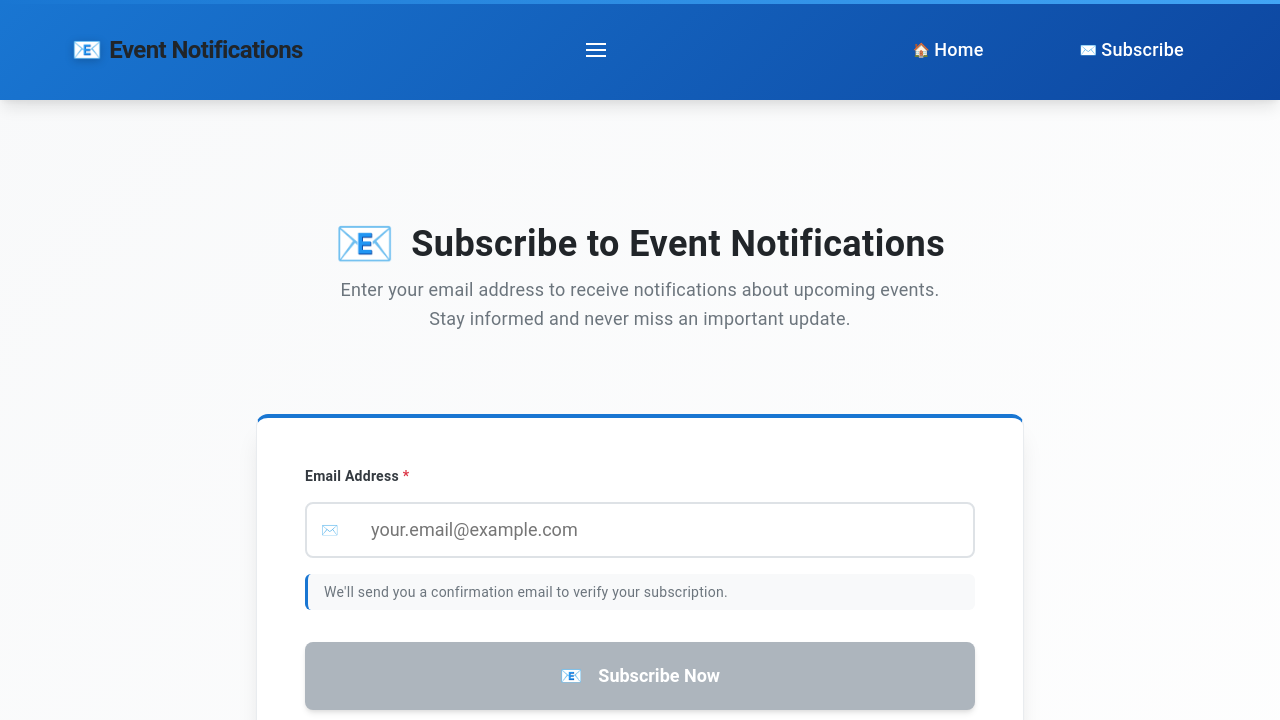
Test case: Cross-Browser Compatibility Tests › JavaScript API Compatibility › should handle DOM manipulation correctly
The width and height of the screenshot is (1280, 720).
expect the form with test id "subscription-form" is shown: met, box [305,466,975,710]
# Test dynamic content updates
Step 1. Type "invalid-email" into the field with id "email" → (640, 530), box [305,502,975,558]
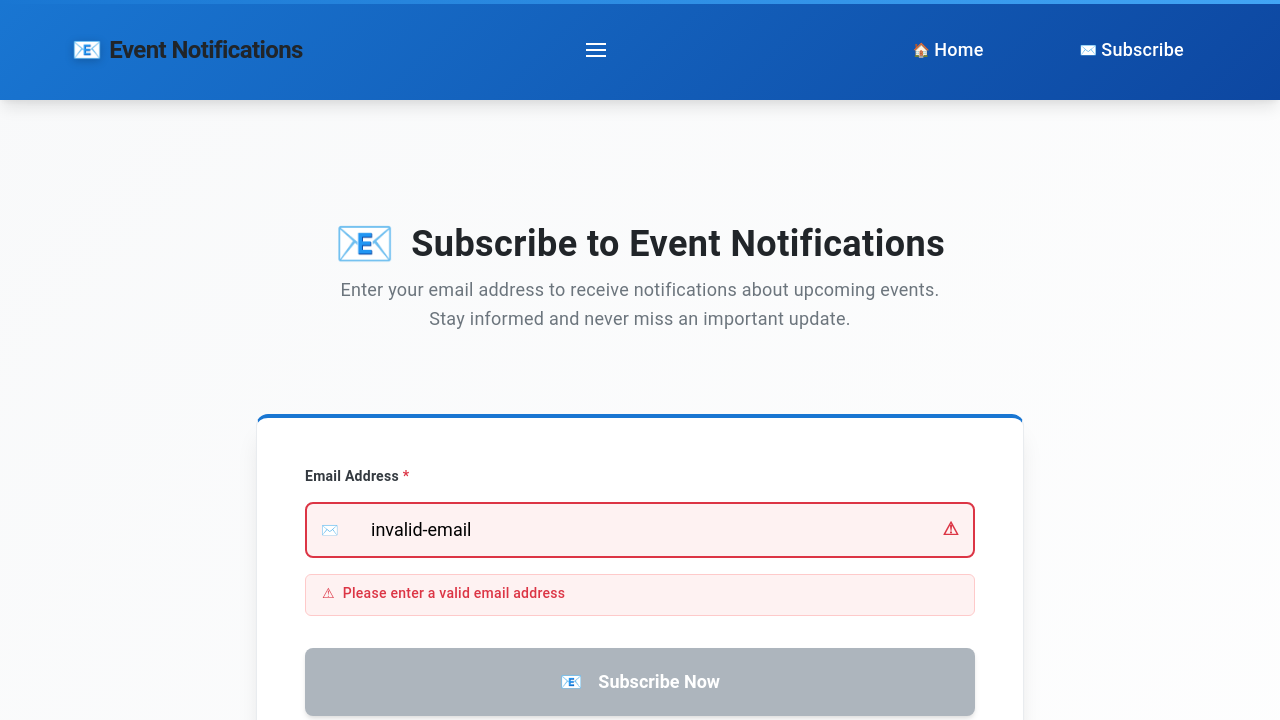
expect the message "⚠ Please enter a valid email address" is shown: met, box [305,574,975,616]
expect the text with class "error-text" shows "valid email": met, box [343,585,565,601]
Step 2. Replace the text in the field with id "email" with "test@example.com" → (640, 530), box [305,502,975,558]
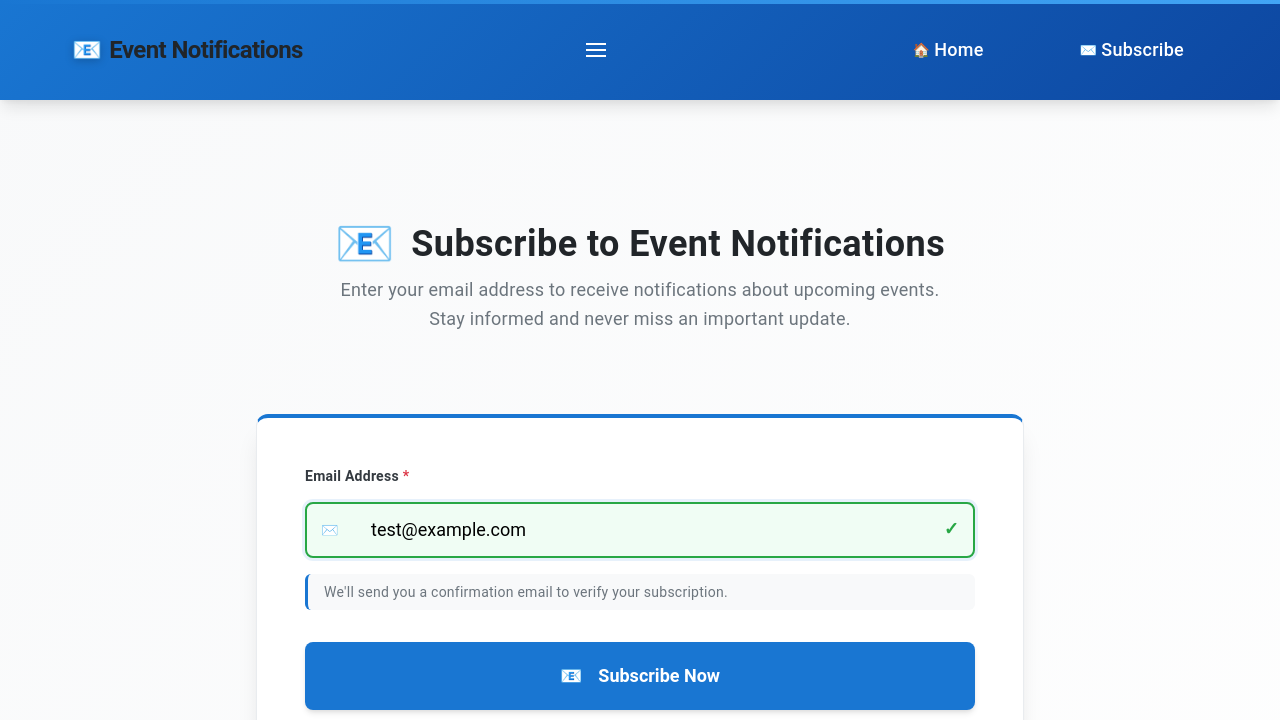
expect the message with class "error-messages" is gone: met
expect the icon with class "success" is shown: met, box [944,518,959,539]
